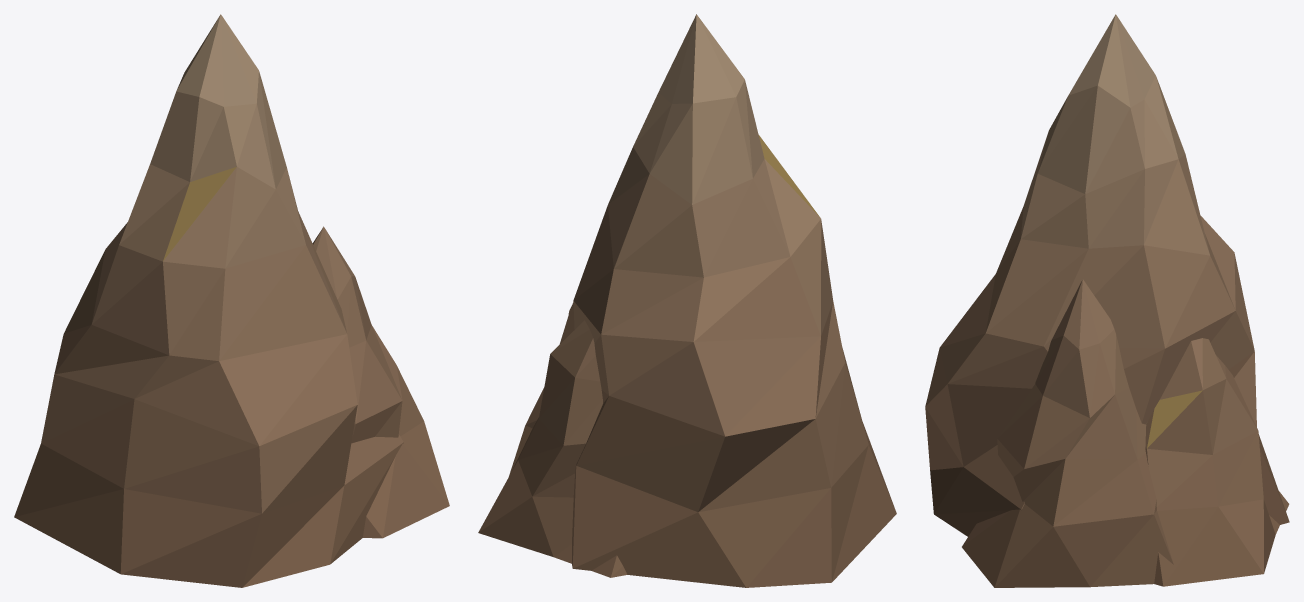
File: Mountain_C.glb
3 renders of one model, left to right at view 1: azimuth 30°, elevation 25°; view 2: azimuth 150°, elevation 25°; view 3: azimuth 270°, elevation 25°, orthographic. The views are drawn at different scales.
Parts seen in each view (by area): view 1: Mountain_C; view 2: Mountain_C; view 3: Mountain_C.
Part boxes in pixels (x1,y1,x2,y2): Mountain_C: [14, 14, 449, 587]; Mountain_C: [478, 14, 896, 587]; Mountain_C: [925, 14, 1289, 587].
Size of the model in its own units: 155 by 212 by 143.
